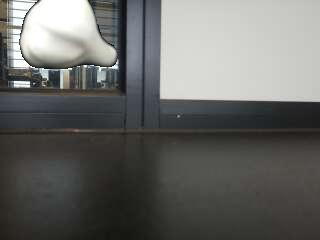Garlic: (19, 0, 117, 70)
